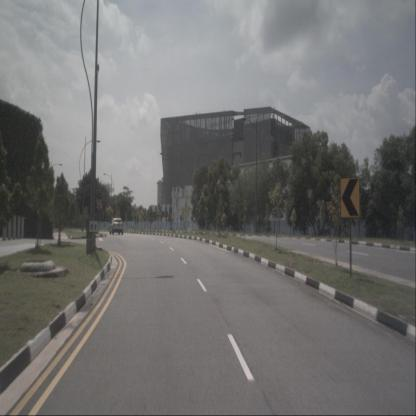vehicle-car: (109, 218, 124, 235)
